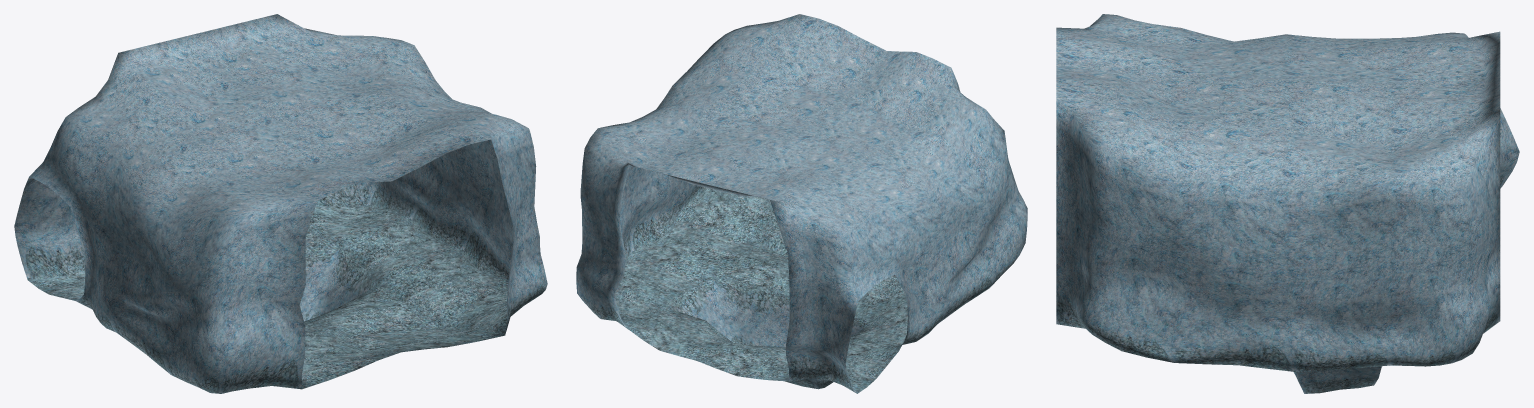
File: thm_all_cave_s02_ice_r4_mesh_r4.fbx
3 views of the same model, side by side, from view 1: azimuth 30°, elevation 25°; view 2: azimuth 150°, elevation 25°; view 3: azimuth 270°, elevation 25° (orthographic). The views are drawn at different scales.
Parts seen in each view (by area): view 1: mesh_node; view 2: mesh_node; view 3: mesh_node.
Part boxes in pixels (x1,y1,x2,y2): mesh_node: (14, 14, 547, 393); mesh_node: (576, 14, 1027, 393); mesh_node: (1056, 14, 1519, 393).
Size of the model in its own units: 41.59 by 32.46 by 42.46.
